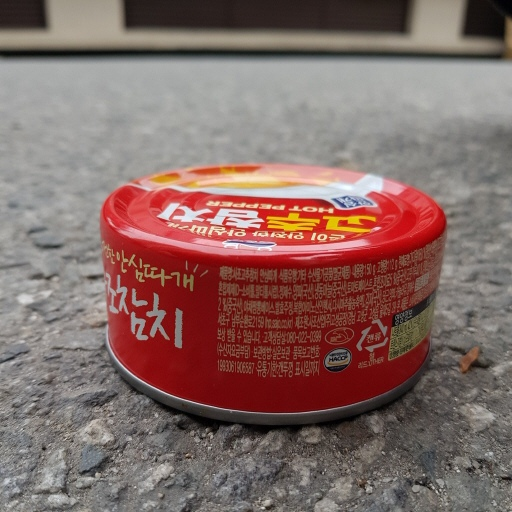Metal_1: (98, 161, 448, 421)
